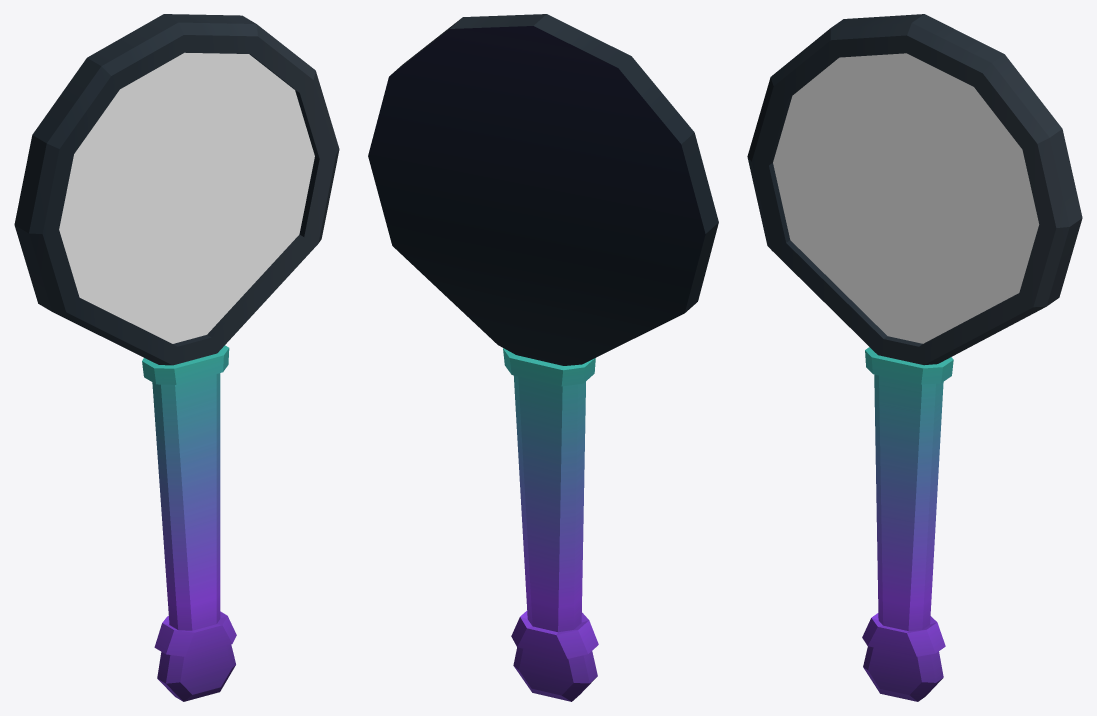
The model's file is real_treasure.glb.
3 renders of one model, left to right at view 1: azimuth 30°, elevation 25°; view 2: azimuth 150°, elevation 25°; view 3: azimuth 330°, elevation 25°, orthographic. The views are drawn at different scales.
Visible parts, largest first — view 1: Circle.014; view 2: Circle.014; view 3: Circle.014.
Boxes of the visible parts, x1,y1,x2,y2 form: Circle.014: (14, 14, 339, 701); Circle.014: (368, 14, 718, 701); Circle.014: (747, 14, 1082, 701).
Bounding box in the file's own units: 1.46 × 2.91 × 0.3197.
1 material, 1 textured.
